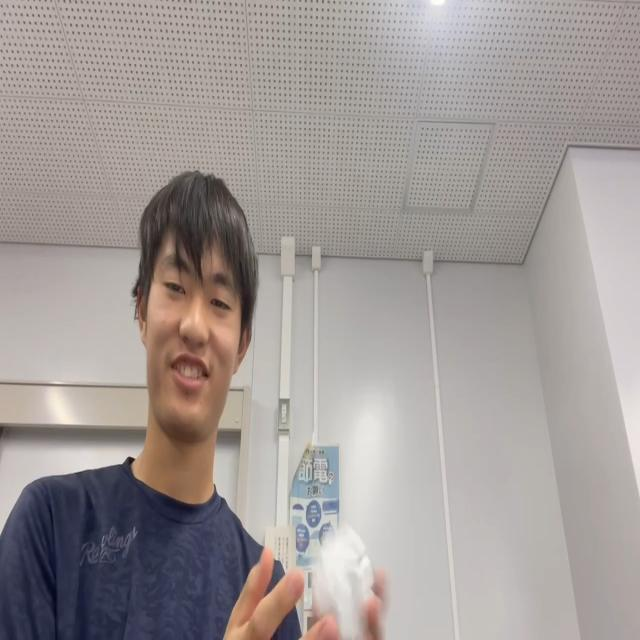paper: (310, 523, 374, 638)
